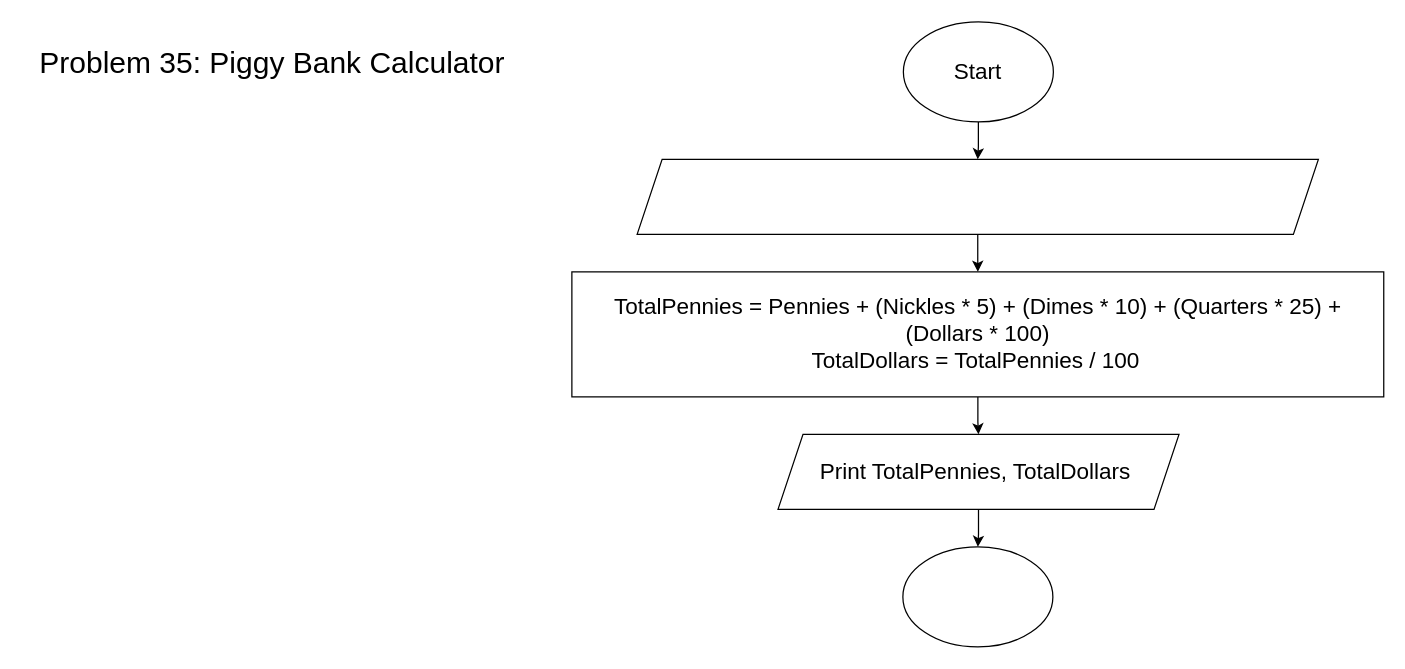
This 1405x669 diagram has some shape labels left out. Each missing label, with the box of its shape:
End: (902, 546, 1053, 647)
Enter, Pennies, Nickles, Dimes, Quarters, Dollars: (636, 158, 1318, 234)
